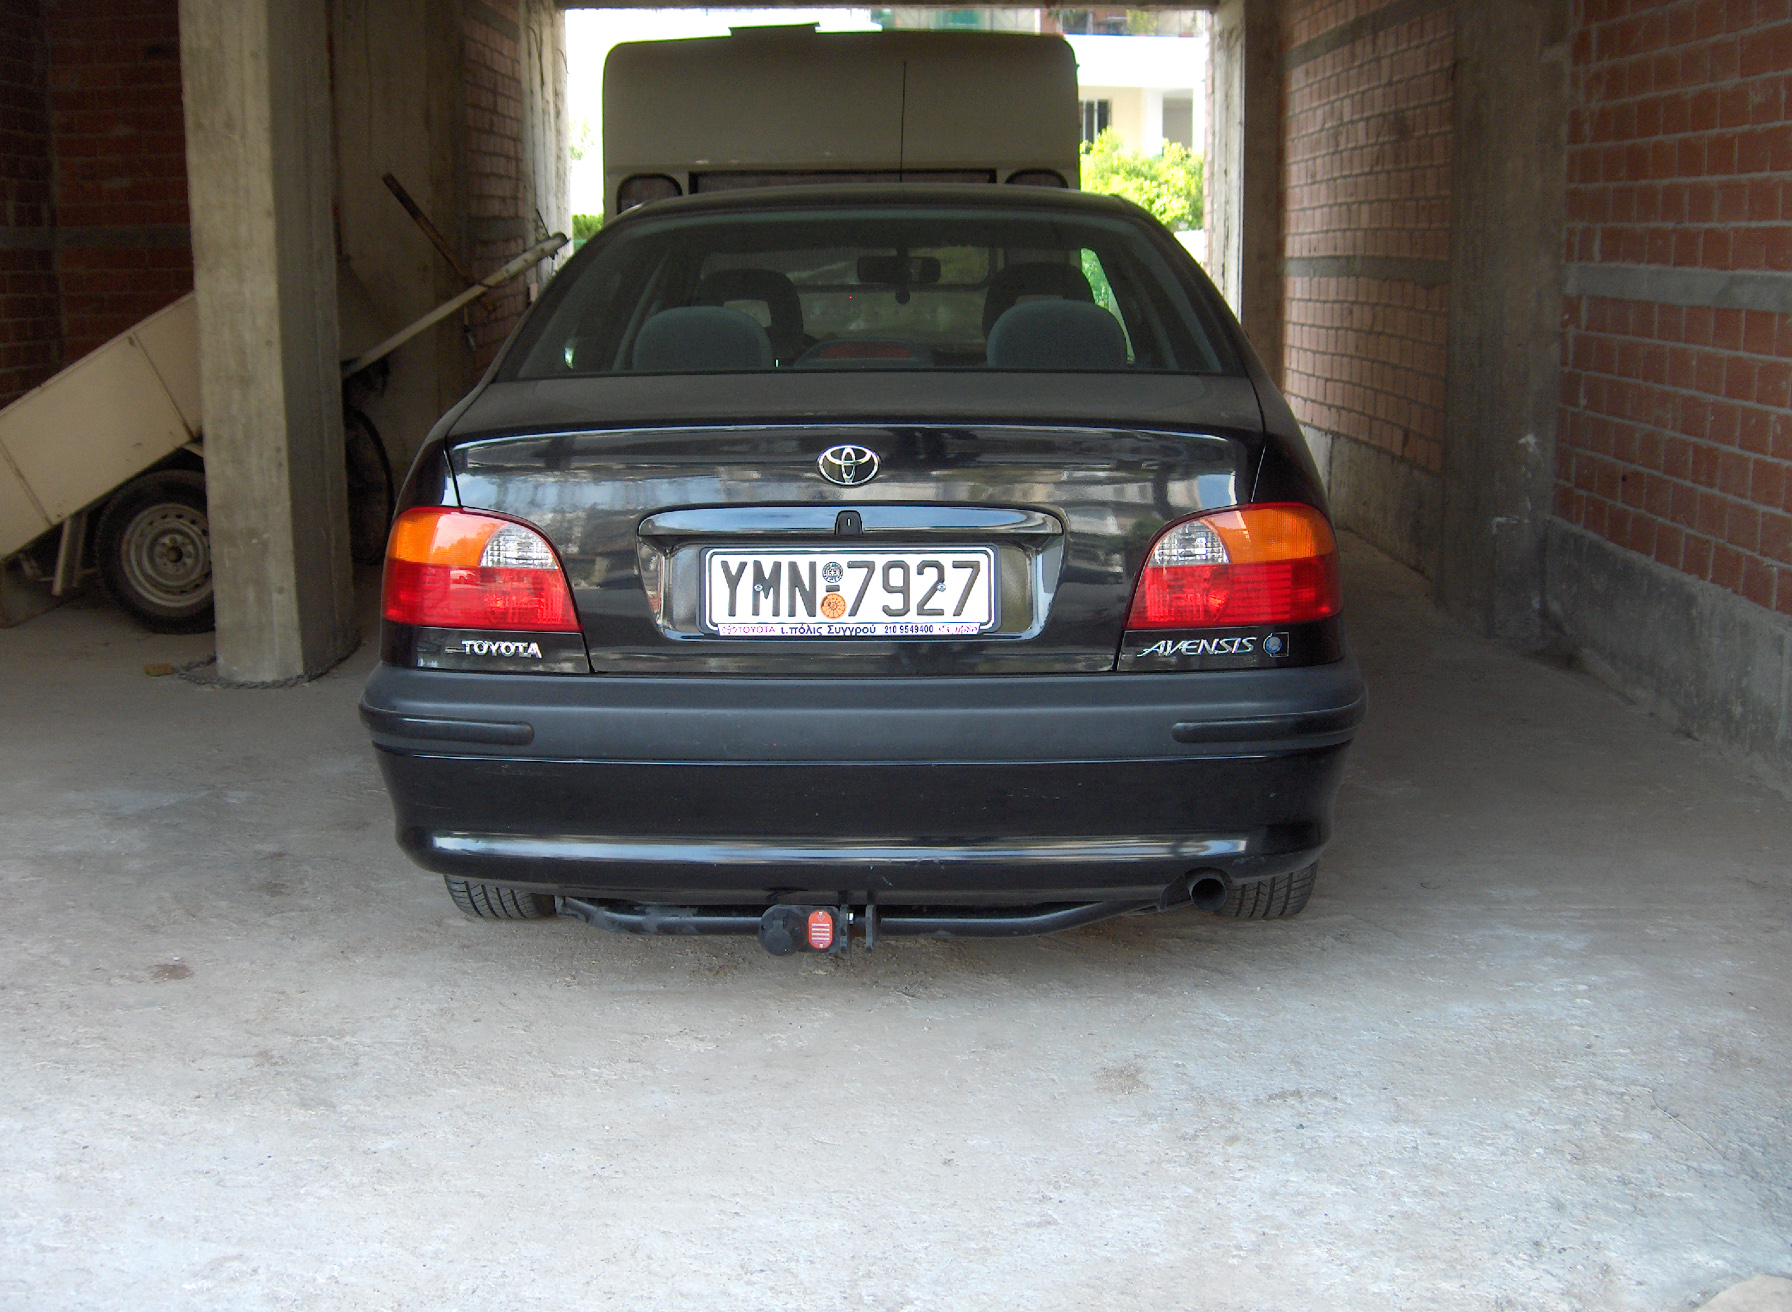lplate: (703, 544, 995, 623)
